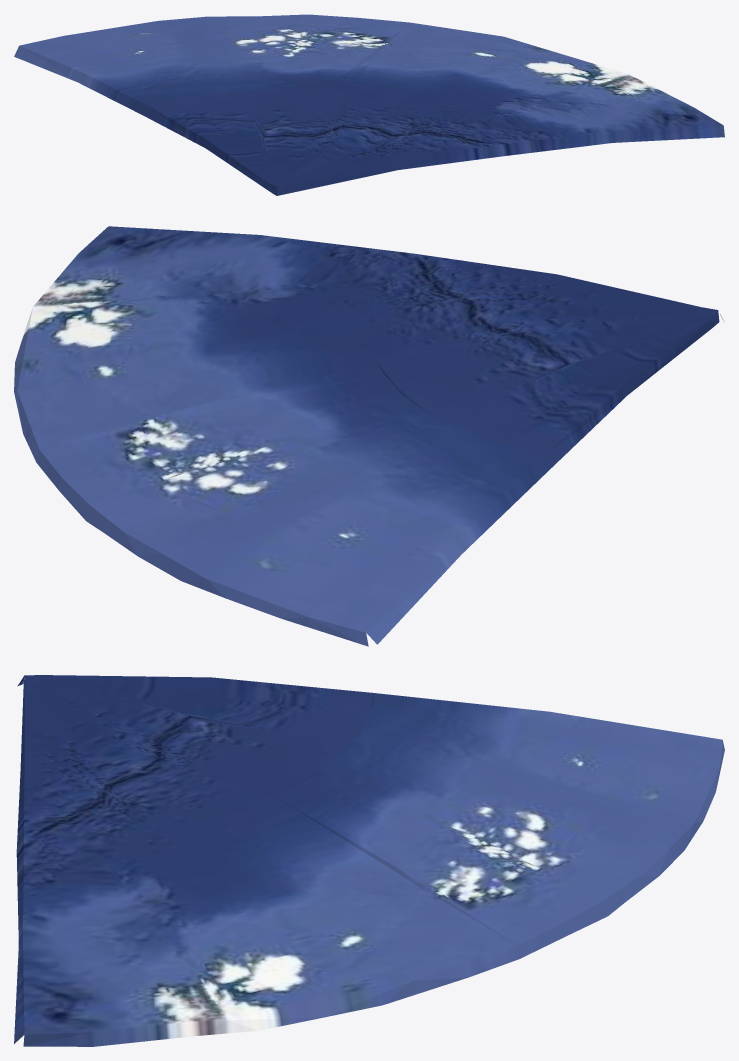
3 views of the same model, one above another, from view 1: azimuth 30°, elevation 25°; view 2: azimuth 150°, elevation 25°; view 3: azimuth 270°, elevation 25° (orthographic). The views are drawn at different scales.
Bounding box in the file's own units: 1269531 × 153257 × 1273554.
Materials: 1 (1 with a texture image).
